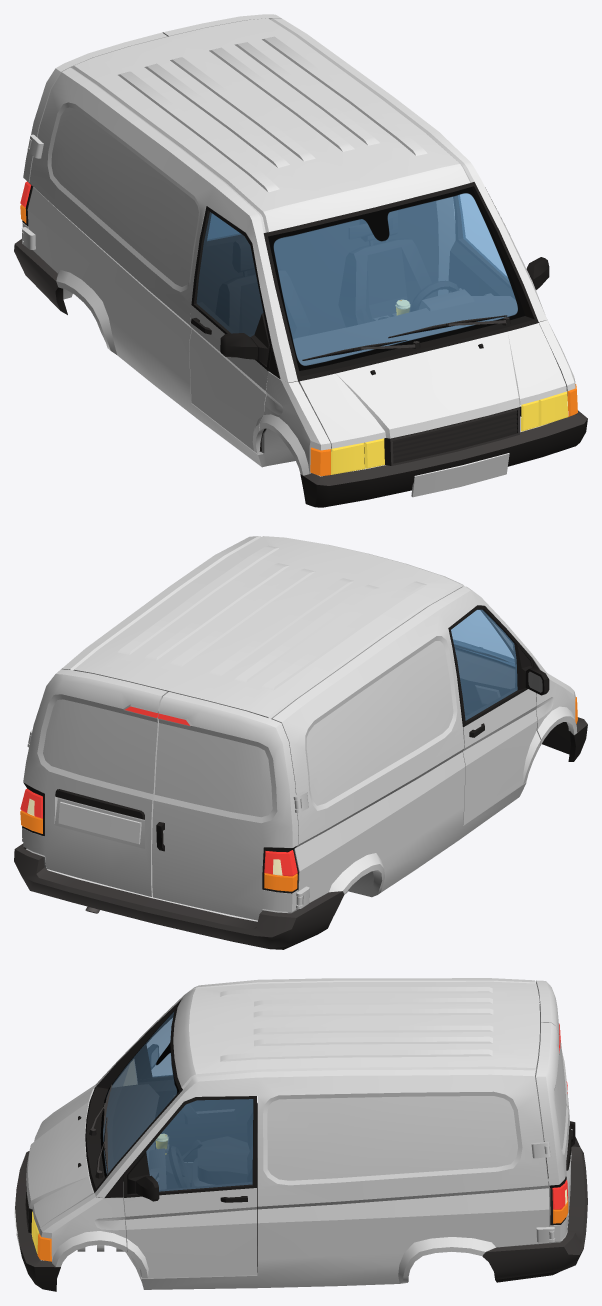
The model's file is Van.glb.
3 views of the same model, one above another, from view 1: azimuth 30°, elevation 25°; view 2: azimuth 150°, elevation 25°; view 3: azimuth 270°, elevation 25° (orthographic). The views are drawn at different scales.
Visible parts, largest first — view 1: Body, Bonet, Doors_FR, Bumper_F, Doors_FL, Grill_F, Fender_FR, Doors_RR, Bumper_R, Headlights_FR, Headlights_FL, InteriorAssymetry (+3 smaller); view 2: Body, Doors_RR, Doors_RL, Doors_FR, Bumper_R, Fender_FR, Lights_RR, Bumper_F, Lights_RL; view 3: Body, Doors_FL, Bonet, Doors_FR, Bumper_R, Doors_RL, Fender_FL, Bumper_F, InteriorAssymetry, Doors_RR, Lights_RL, WindshieldWipers.
Part boxes in pixels (x1,y1,x2,y2): Body: [21, 18, 546, 467]; Bonet: [299, 323, 566, 448]; Doors_FR: [189, 206, 272, 453]; Bumper_F: [300, 410, 587, 507]; Doors_FL: [448, 187, 549, 299]; Grill_F: [384, 406, 520, 465]; Fender_FR: [259, 372, 330, 475]; Doors_RR: [22, 32, 167, 241]; Bumper_R: [14, 239, 67, 314]; Headlights_FR: [331, 438, 384, 474]; Headlights_FL: [520, 391, 568, 431]; InteriorAssymetry: [373, 280, 474, 320]; Body: [22, 536, 546, 921]; Doors_RR: [152, 692, 302, 920]; Doors_RL: [22, 669, 167, 896]; Doors_FR: [448, 605, 549, 824]; Bumper_R: [14, 843, 344, 949]; Fender_FR: [536, 673, 577, 746]; Lights_RR: [262, 846, 298, 893]; Bumper_F: [542, 717, 587, 761]; Lights_RL: [20, 782, 44, 836]; Body: [77, 978, 568, 1289]; Doors_FL: [123, 1096, 256, 1278]; Bonet: [26, 1088, 94, 1232]; Doors_FR: [128, 1014, 252, 1162]; Bumper_R: [482, 1130, 587, 1282]; Doors_RL: [536, 1022, 571, 1241]; Fender_FL: [39, 1193, 126, 1266]; Bumper_F: [14, 1151, 60, 1291]; InteriorAssymetry: [149, 1136, 189, 1189]; Doors_RR: [536, 980, 575, 1146]; Lights_RL: [549, 1176, 568, 1225]; WindshieldWipers: [89, 1084, 111, 1178].
Size of what is drawn, in the model's own units: 1.38 by 1.01 by 2.34.
4 materials, 4 textured.
